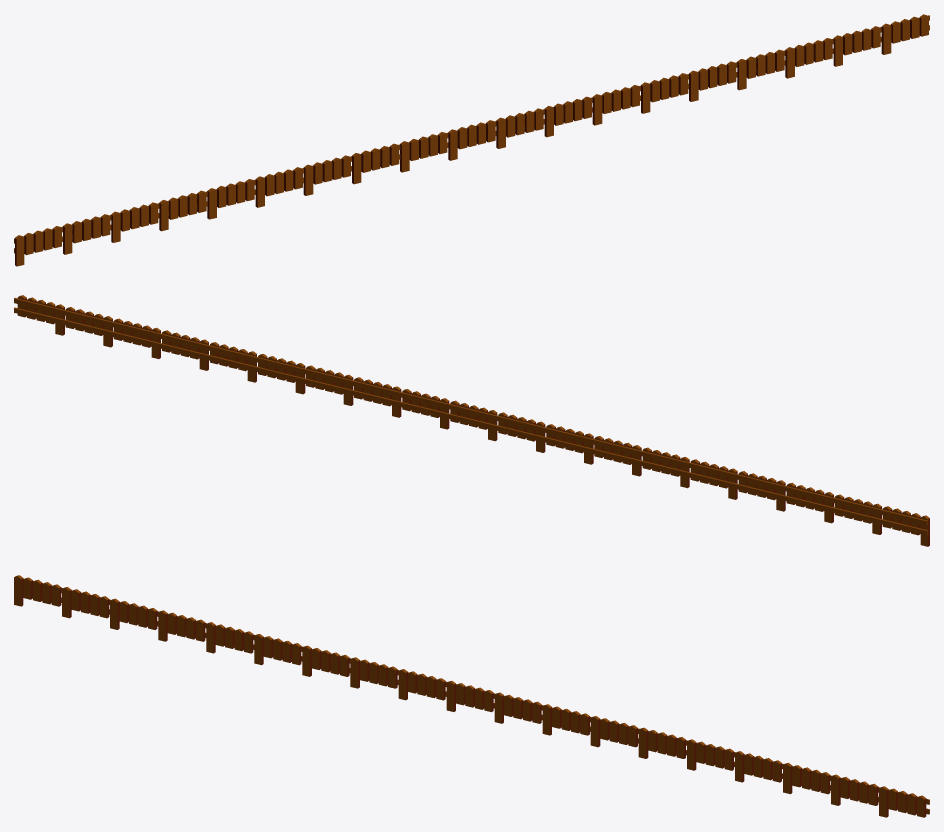
File: fenceLong.glb
3 views of the same model, one above another, from view 1: azimuth 30°, elevation 25°; view 2: azimuth 150°, elevation 25°; view 3: azimuth 330°, elevation 25° (orthographic).
Parts seen in each view (by area): view 1: FecneLong; view 2: FecneLong; view 3: FecneLong.
Boxes of the visible parts, left/top/right/bottom form: FecneLong: left=14, top=14, right=929, bottom=266; FecneLong: left=14, top=295, right=929, bottom=546; FecneLong: left=14, top=575, right=929, bottom=817.
Bounding box in the file's own units: 19 × 0.5814 × 0.0977.
